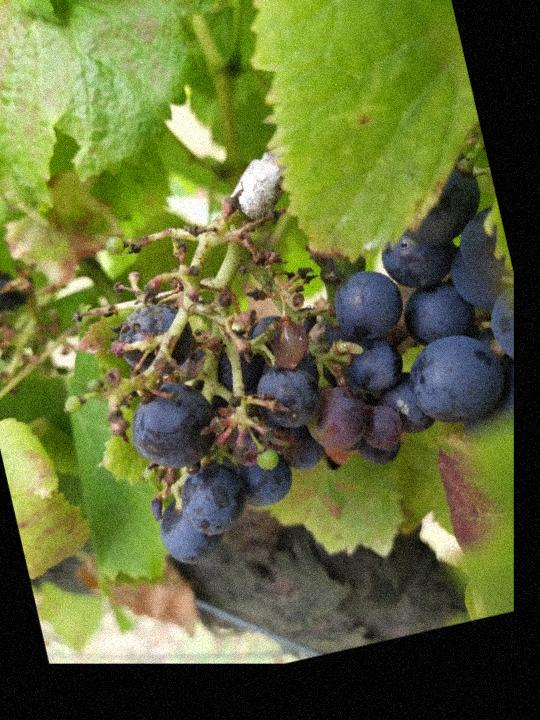grape: (27, 182, 421, 585)
